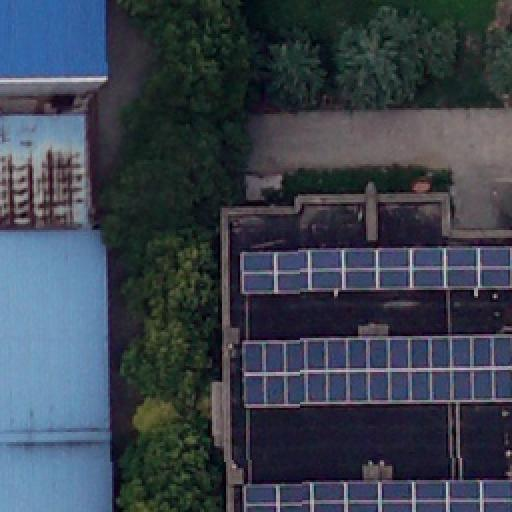solar-panel: (248, 334, 512, 402), (241, 247, 511, 289), (241, 481, 511, 511)
